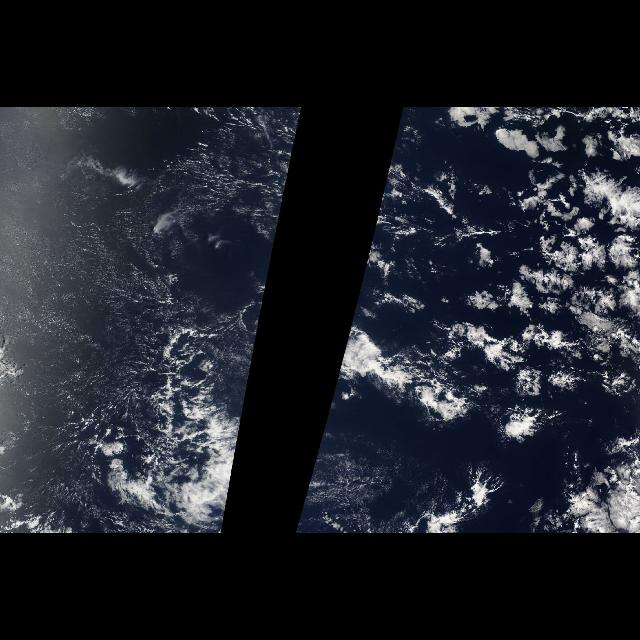Flower: (460, 199, 638, 447)
Sugar: (1, 108, 281, 444)
